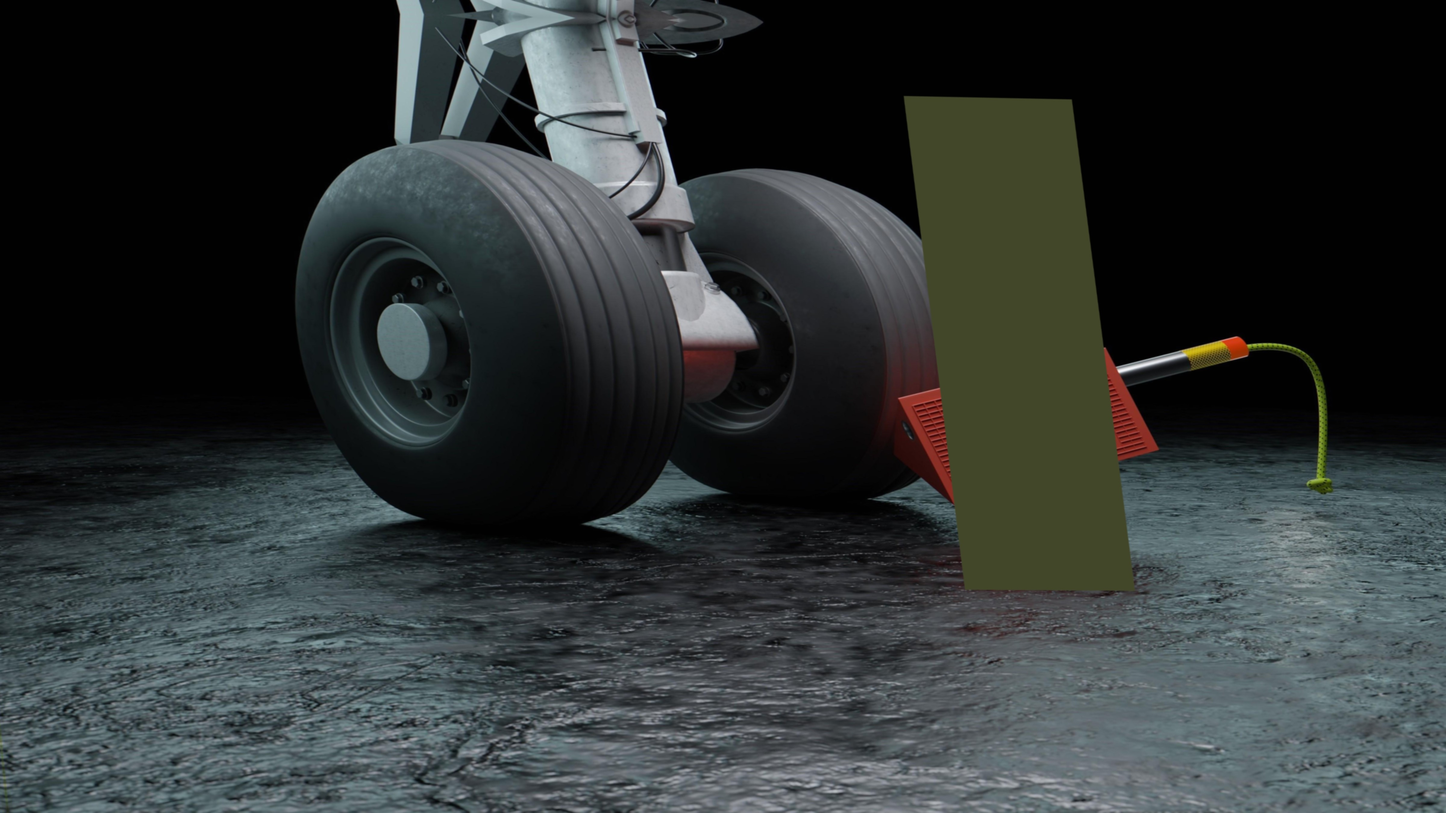chock: (863, 338, 1180, 514)
wheel: (247, 131, 725, 540), (600, 159, 1007, 511)
